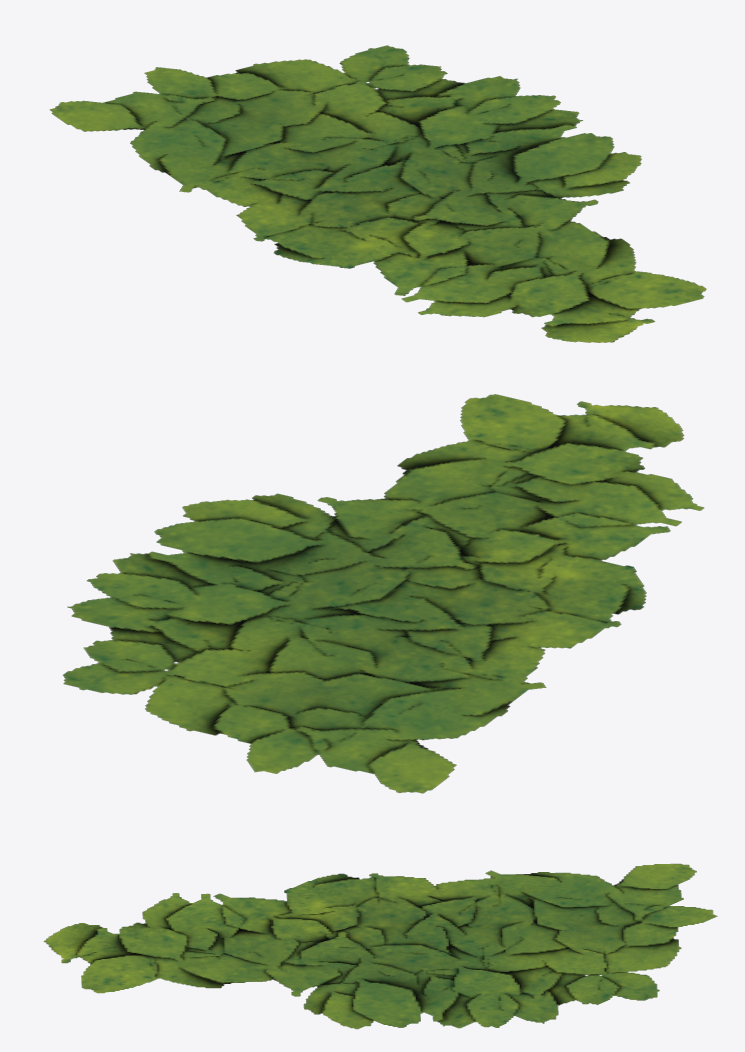
File: Bush_02.fbx
The picture shows the model from 3 angles, top to bottom: view 1: azimuth 30°, elevation 25°; view 2: azimuth 150°, elevation 25°; view 3: azimuth 270°, elevation 25°; orthographic projection. The views are drawn at different scales.
Parts seen in each view (by area): view 1: Bush_02; view 2: Bush_02; view 3: Bush_02.
Boxes of the visible parts, x1,y1,x2,y2 form: Bush_02: (49,45,706,342); Bush_02: (62,394,704,793); Bush_02: (43,863,717,1029).
Size of the model in its own units: 1.92 by 1.19e-09 by 3.02.
